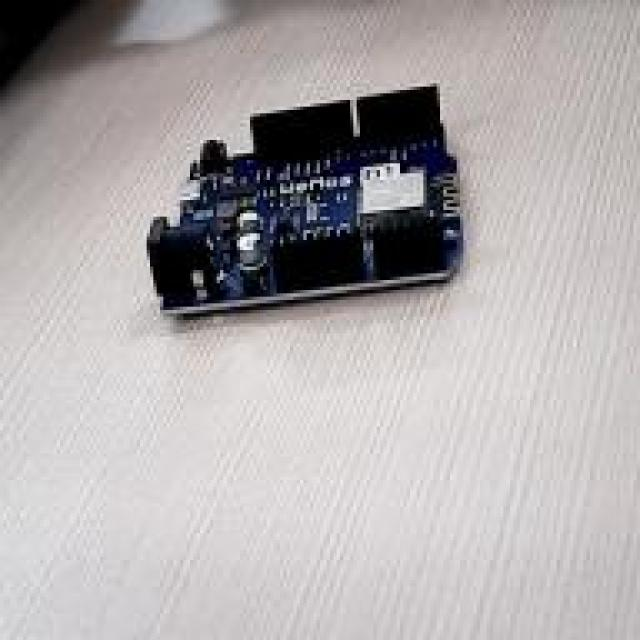Wemos: (148, 84, 461, 311)
